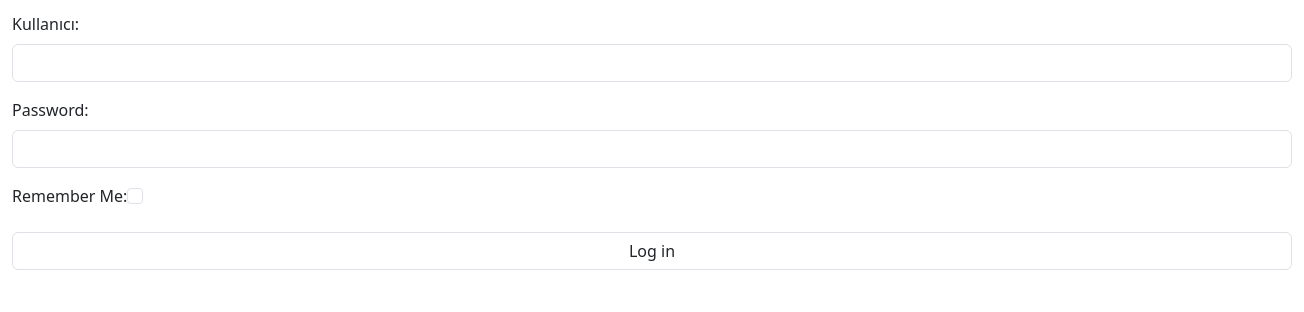
Scenario: Login Form validation test
This screenshot has width=1304, height=312.
# Email Input
Type "qwe" into the field with test id "email-input" at [652, 63], box [12,44,1292,82]
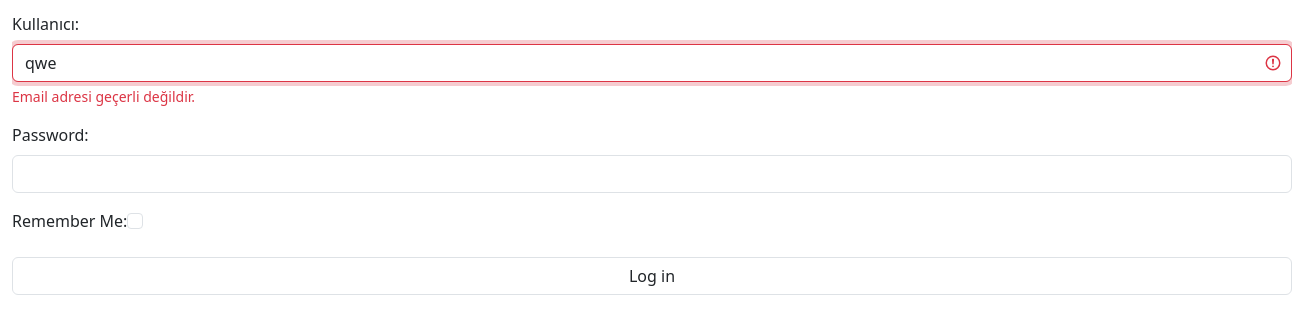
Result: the text "Email adresi geçerli değildir." is shown at [12,87,195,106]
